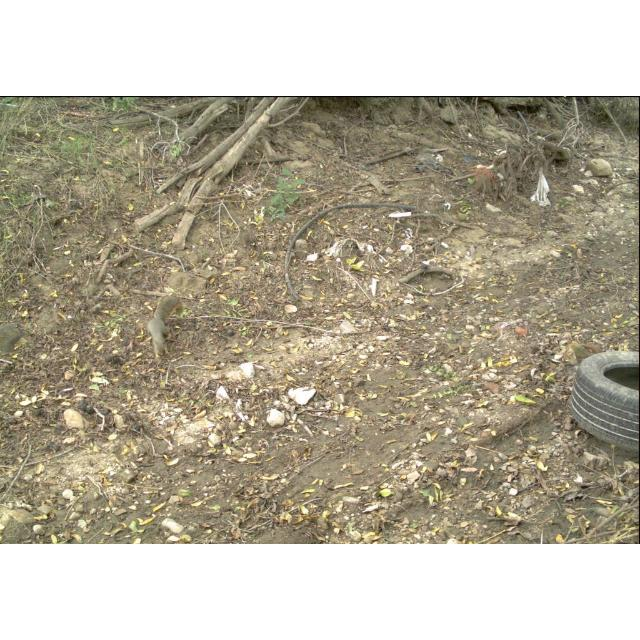animals: (147, 292, 186, 364)
